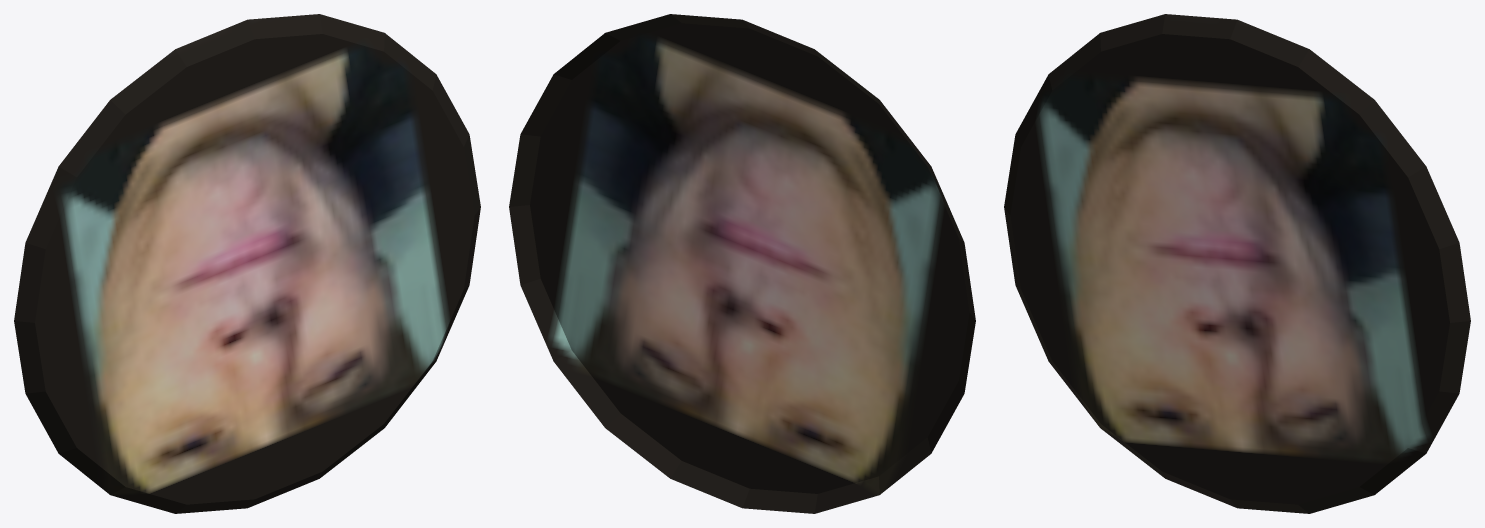
Rendered from battle_enemy_portrait.DAE.
The picture shows the model from 3 angles, left to right: view 1: azimuth 30°, elevation 25°; view 2: azimuth 150°, elevation 25°; view 3: azimuth 330°, elevation 25°; orthographic projection.
Parts seen in each view (by area): view 1: battle_003; view 2: battle_003; view 3: battle_003.
Boxes of the visible parts, x1,y1,x2,y2 form: battle_003: (14,14,480,513); battle_003: (509,14,975,513); battle_003: (1004,14,1470,513).
Size of the model in its own units: 121 by 121 by 3.29.
Materials: 1 (1 with a texture image).
